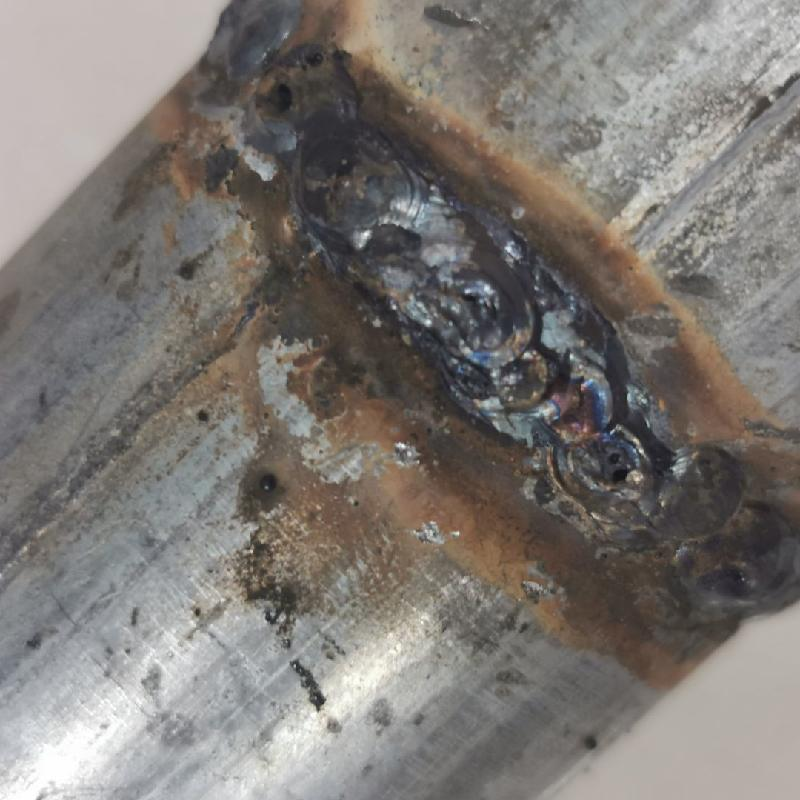Surface_pores: (258, 35, 331, 120), (590, 435, 633, 495)
crater: (416, 282, 734, 532)
wrong_size: (213, 1, 454, 281)
